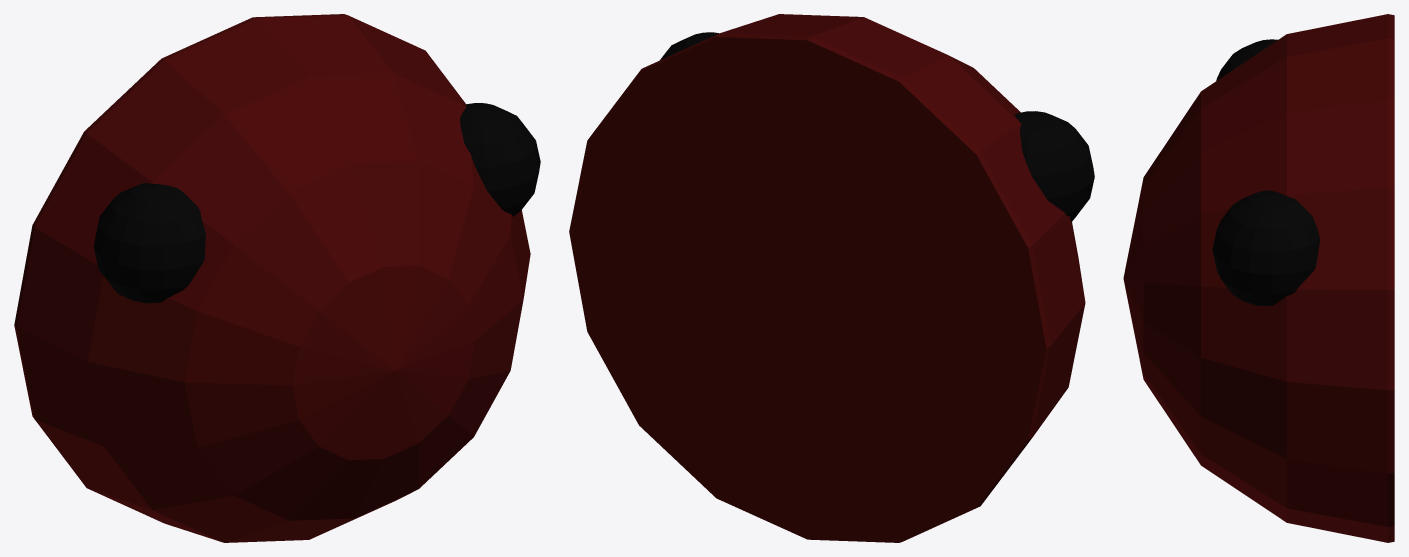
The model's file is red_top.obj.
3 views of the same model, side by side, from view 1: azimuth 30°, elevation 25°; view 2: azimuth 150°, elevation 25°; view 3: azimuth 270°, elevation 25° (orthographic). The views are drawn at different scales.
Visible parts, largest first — view 1: Sphere_Sphere.000_Sphere_Sphere.002, Sphere.001_Sphere.002, Sphere_Sphere.002; view 2: Sphere_Sphere.000_Sphere_Sphere.002, Sphere.001_Sphere.002; view 3: Sphere_Sphere.000_Sphere_Sphere.002, Sphere_Sphere.002, Sphere.001_Sphere.002.
Part boxes in pixels (bbox=[...]): Sphere_Sphere.000_Sphere_Sphere.002: bbox=[14, 14, 530, 542]; Sphere.001_Sphere.002: bbox=[93, 183, 205, 303]; Sphere_Sphere.002: bbox=[460, 103, 540, 216]; Sphere_Sphere.000_Sphere_Sphere.002: bbox=[569, 14, 1085, 542]; Sphere.001_Sphere.002: bbox=[1014, 111, 1094, 222]; Sphere_Sphere.000_Sphere_Sphere.002: bbox=[1123, 14, 1394, 542]; Sphere_Sphere.002: bbox=[1212, 190, 1320, 305]; Sphere.001_Sphere.002: bbox=[1216, 39, 1277, 80].
Bounding box in the file's own units: 5.32 × 5.32 × 2.73.
